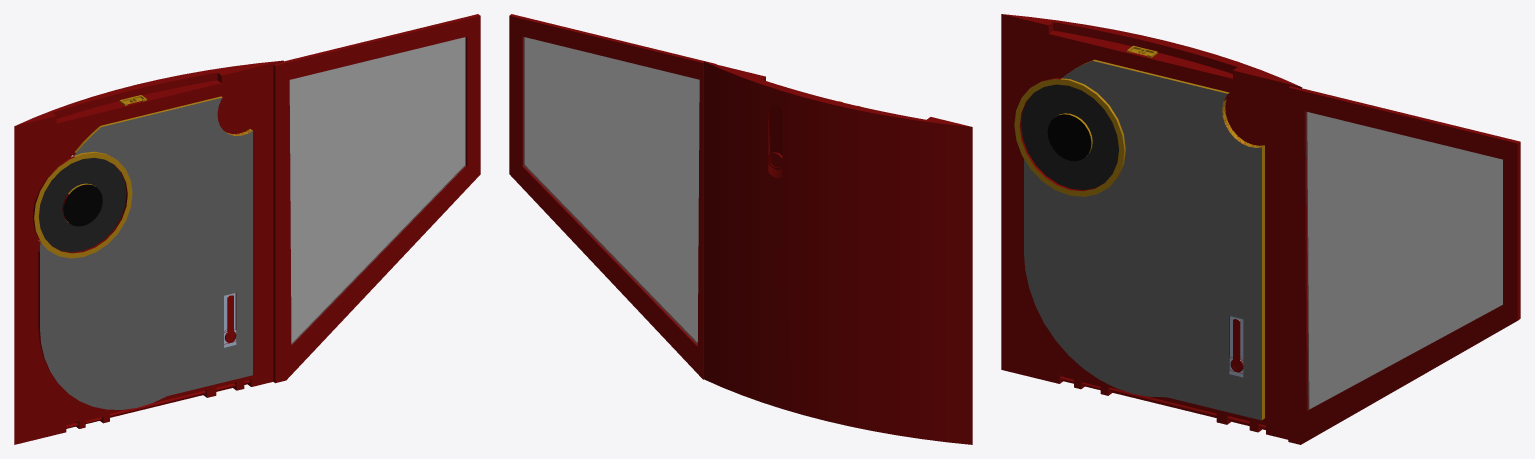
The picture shows the model from 3 angles, left to right: view 1: azimuth 30°, elevation 25°; view 2: azimuth 150°, elevation 25°; view 3: azimuth 330°, elevation 25°; orthographic projection. The views are drawn at different scales.
Parts seen in each view (by area): view 1: SketchUp (×7); view 2: SketchUp (×3); view 3: SketchUp (×8).
Part boxes in pixels (left/top/right/bottom): SketchUp (×7): left=14, top=14, right=480, bottom=444; SketchUp (×3): left=509, top=14, right=972, bottom=444; SketchUp (×8): left=1001, top=14, right=1520, bottom=444.
Size of the model in its own units: 340 by 20.61 by 223.
